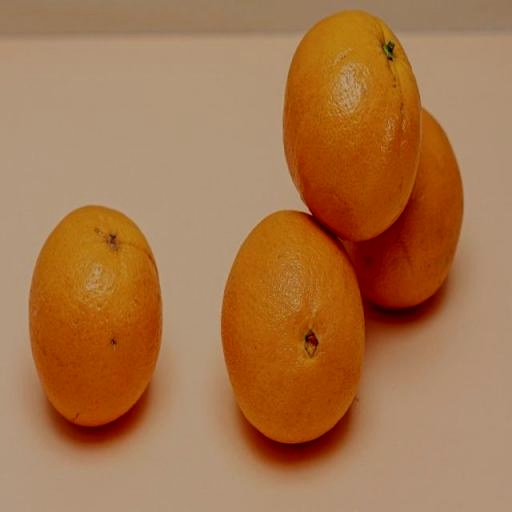fruit: (221, 212, 363, 443), (283, 12, 419, 240), (29, 207, 160, 426), (345, 110, 462, 308)
